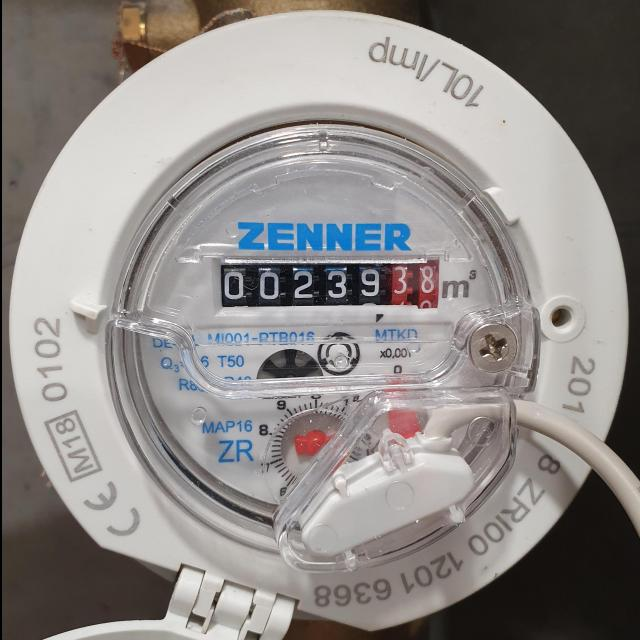gaz_meter: (113, 116, 526, 541)
indication: (218, 261, 439, 309)
